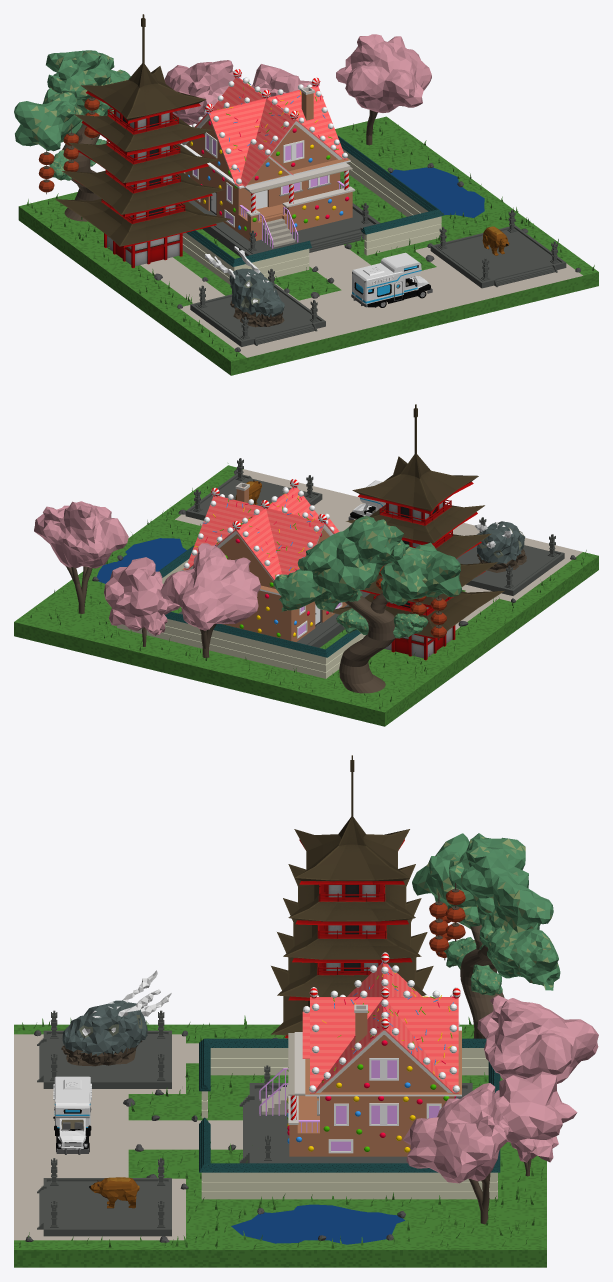
3 renders of one model, top to bottom at view 1: azimuth 30°, elevation 25°; view 2: azimuth 150°, elevation 25°; view 3: azimuth 270°, elevation 25°, orthographic. The views are drawn at different scales.
Visible parts, largest first — view 1: Cube.005, Cube.1203, VEHICLES_CAMPER, OBJRANDOM_METEORITE, ANIMAL_OSO; view 2: Cube.005, Cube.1203, OBJRANDOM_METEORITE, VEHICLES_CAMPER; view 3: Cube.005, Cube.1203, OBJRANDOM_METEORITE, VEHICLES_CAMPER, ANIMAL_OSO.
Part boxes in pixels (x1,y1,x2,y2): Cube.005: (14, 14, 598, 375); Cube.1203: (179, 69, 355, 248); VEHICLES_CAMPER: (351, 252, 432, 307); OBJRANDOM_METEORITE: (205, 246, 284, 327); ANIMAL_OSO: (482, 226, 509, 255); Cube.005: (14, 404, 598, 726); Cube.1203: (181, 479, 347, 641); OBJRANDOM_METEORITE: (474, 521, 526, 572); VEHICLES_CAMPER: (348, 480, 385, 520); Cube.005: (14, 755, 598, 1267); Cube.1203: (259, 952, 461, 1156); OBJRANDOM_METEORITE: (61, 970, 171, 1066); VEHICLES_CAMPER: (53, 1076, 91, 1154); ANIMAL_OSO: (89, 1177, 139, 1208).
Size of the model in its own units: 4528 by 2690 by 4389.
52 materials, 6 textured.
